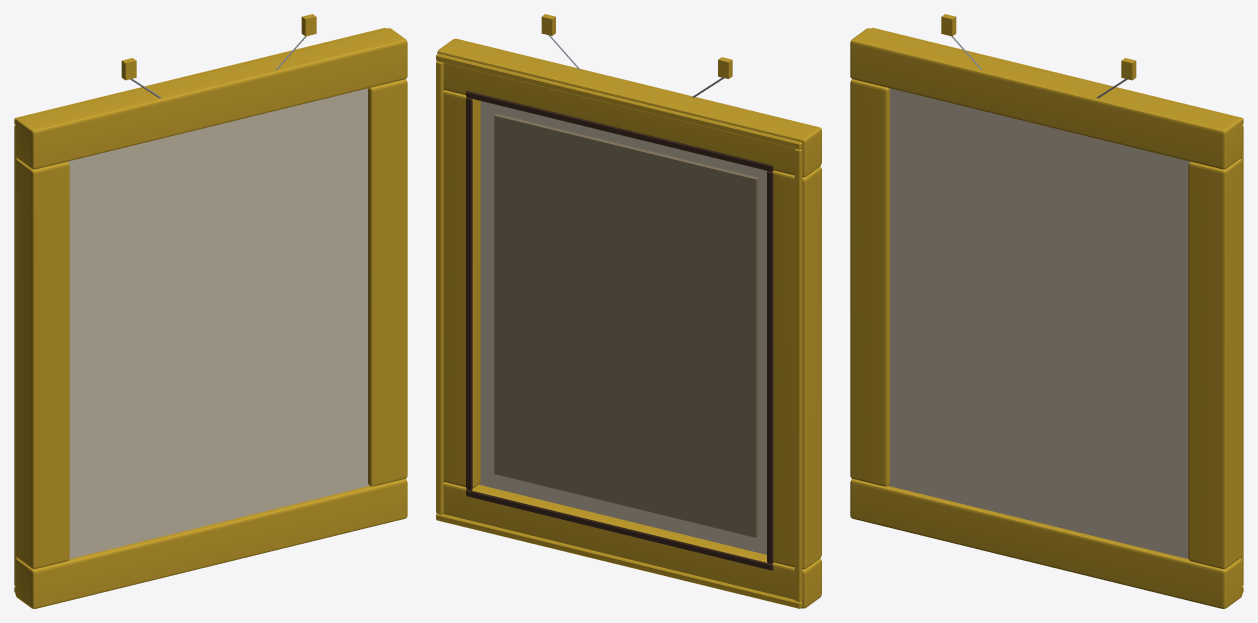
The model's file is prop_canvas_study5.glb.
3 renders of one model, left to right at view 1: azimuth 30°, elevation 25°; view 2: azimuth 150°, elevation 25°; view 3: azimuth 330°, elevation 25°, orthographic.
Parts seen in each view (by area): view 1: Canvas, Hooks; view 2: Paint, Canvas, Hooks; view 3: Canvas, Hooks.
Boxes of the visible parts, x1,y1,x2,y2 form: Canvas: (14, 28, 407, 608); Hooks: (121, 14, 316, 98); Paint: (494, 114, 758, 537); Canvas: (436, 38, 821, 608); Hooks: (541, 14, 732, 97); Canvas: (850, 28, 1243, 608); Hooks: (941, 14, 1136, 98).
Bounding box in the file's own units: 0.69 × 0.92 × 0.068.
